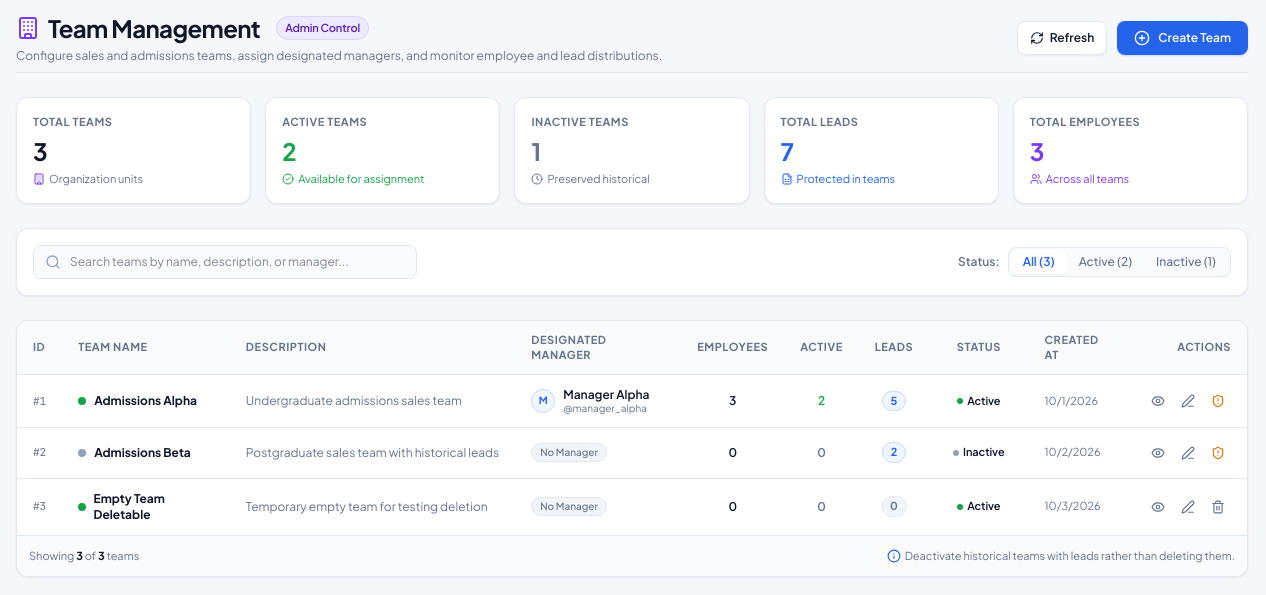
Test: Skill Move Sales CRM — Phase 4: Team Management Interface › 2. Team List & Metrics › filters teams by search query
Expected: the text "Admissions Alpha" is shown, [94,393,197,409]
In the field with placeholder "Search teams by name, description, or manager...": [225, 262] box [33,245,417,279], type "Beta"
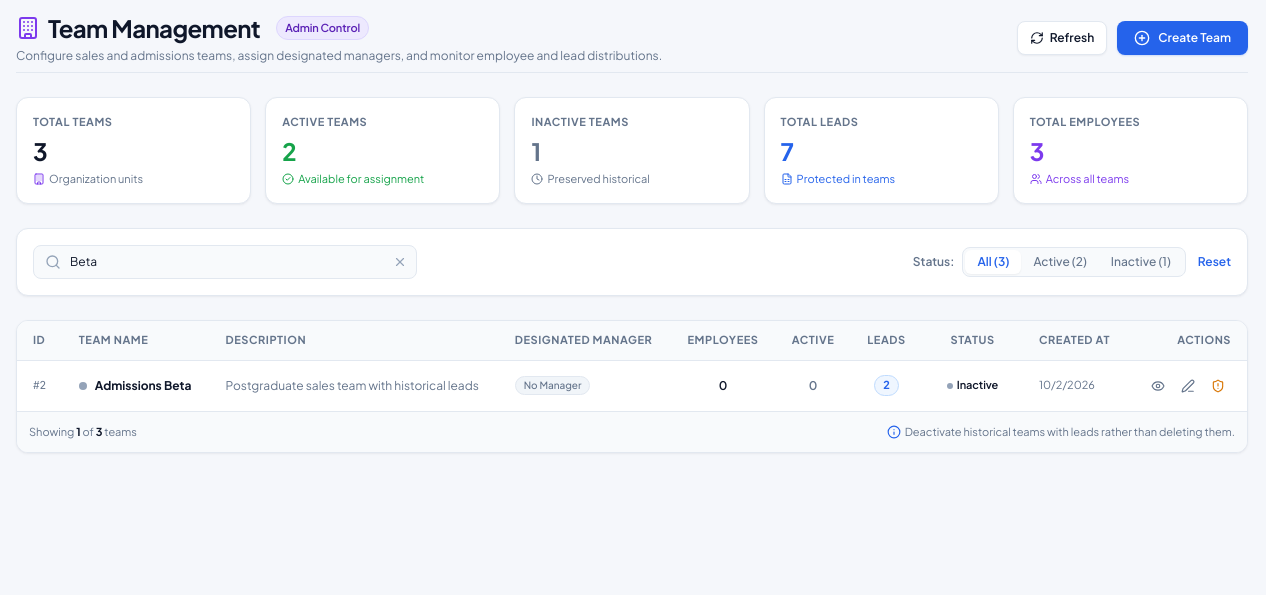
Expected: the text "Admissions Beta" is shown, [95,378,191,394]
Now the text "Admissions Alpha" is gone
